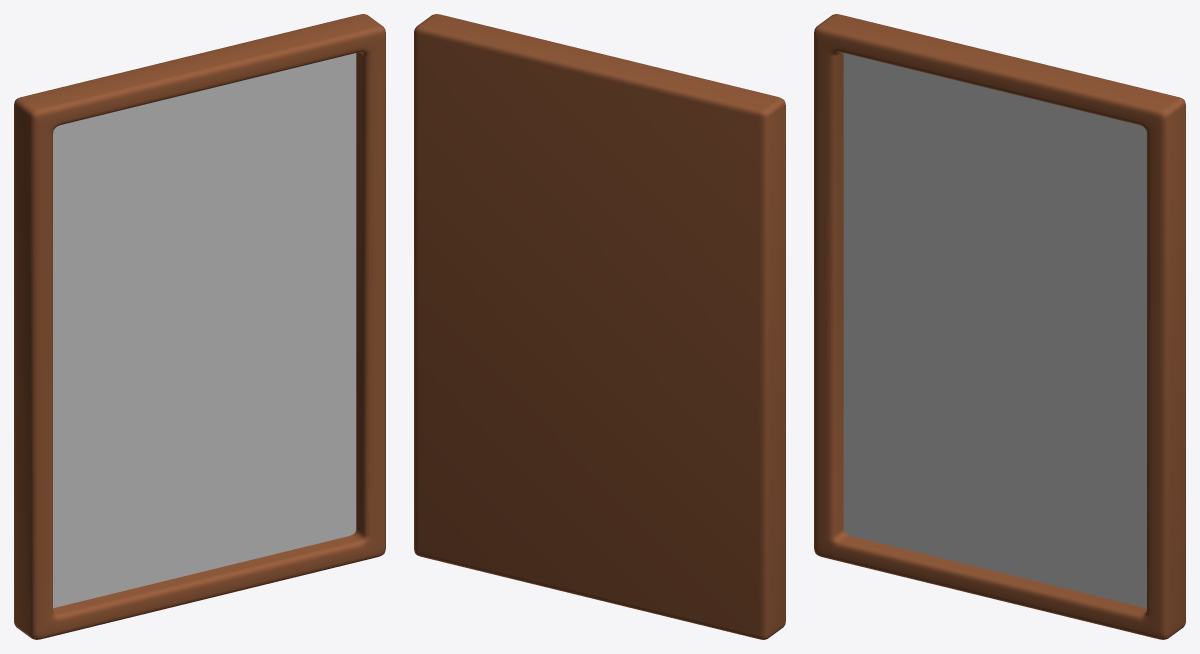
Rendered from jenny photo.fbx.
The picture shows the model from 3 angles, left to right: view 1: azimuth 30°, elevation 25°; view 2: azimuth 150°, elevation 25°; view 3: azimuth 330°, elevation 25°; orthographic projection.
Parts seen in each view (by area): view 1: Plane001, Box001; view 2: Box001; view 3: Plane001, Box001.
Boxes of the visible parts, <box> form: Plane001: <box>53,53,356,608</box>; Box001: <box>14,14,385,639</box>; Box001: <box>414,14,785,639</box>; Plane001: <box>843,53,1146,608</box>; Box001: <box>814,14,1185,639</box>.
Size of the model in its own units: 112 by 160 by 12.
